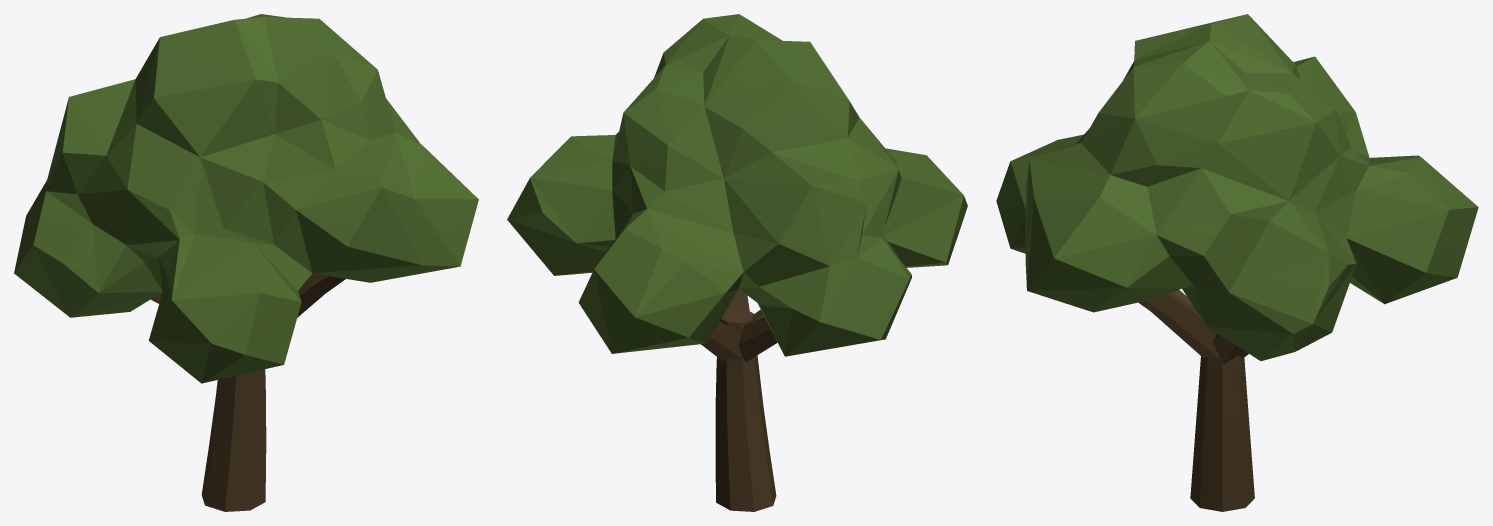
File: Broadleaf_Big_A.glb
The picture shows the model from 3 angles, left to right: view 1: azimuth 30°, elevation 25°; view 2: azimuth 150°, elevation 25°; view 3: azimuth 270°, elevation 25°; orthographic projection. The views are drawn at different scales.
Visible parts, largest first — view 1: Broadleaf_Big_A_LOD0; view 2: Broadleaf_Big_A_LOD0; view 3: Broadleaf_Big_A_LOD0.
Boxes of the visible parts, x1=… form: Broadleaf_Big_A_LOD0: x1=14, y1=14, x2=478, y2=511; Broadleaf_Big_A_LOD0: x1=507, y1=14, x2=967, y2=511; Broadleaf_Big_A_LOD0: x1=996, y1=14, x2=1478, y2=511.
Size of what is drawn, in the model's own units: 5.05 by 5.93 by 5.49.
